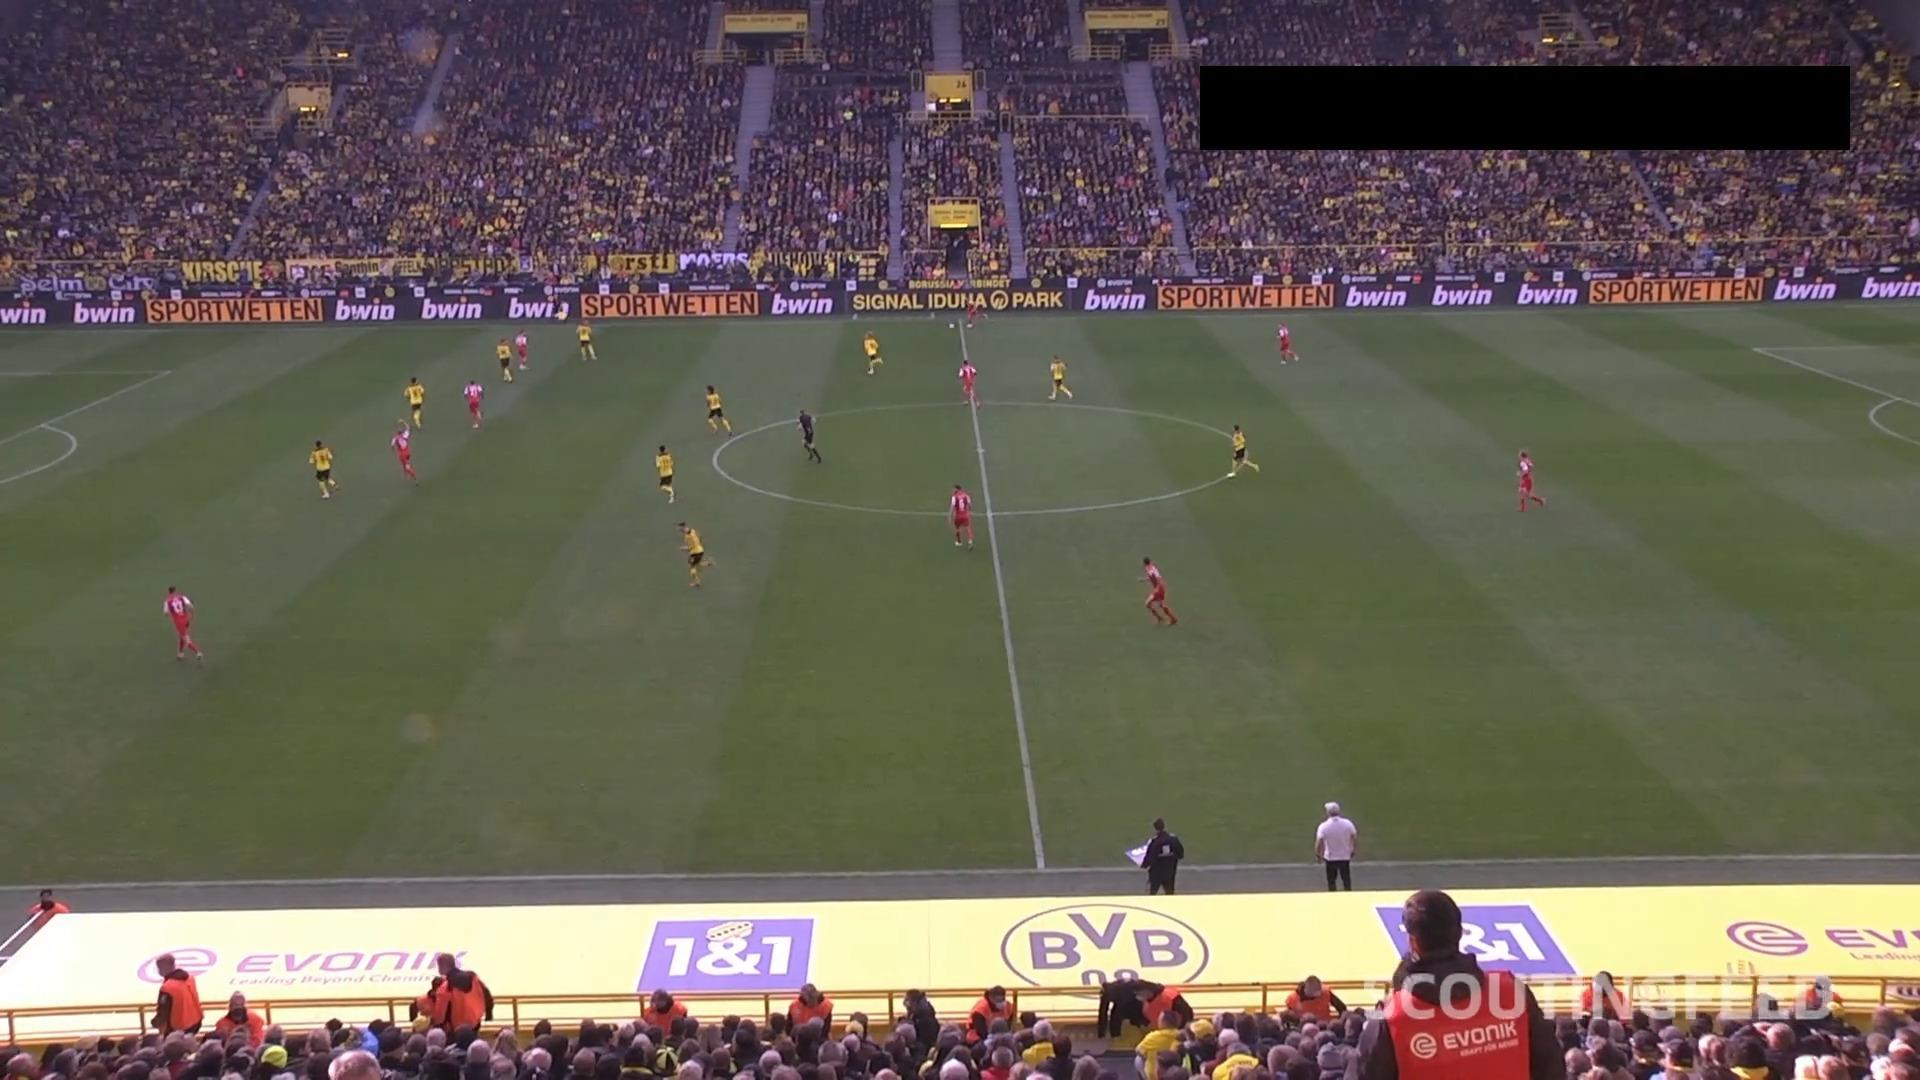ball: (947, 320, 956, 331)
